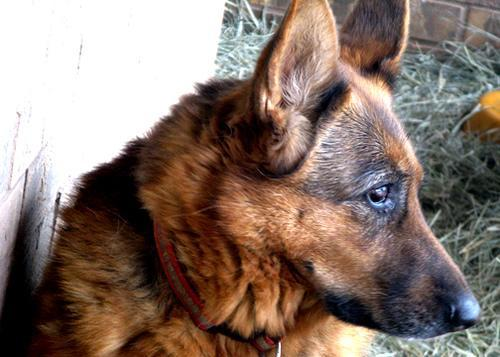German_shepherd: (12, 0, 482, 356)
